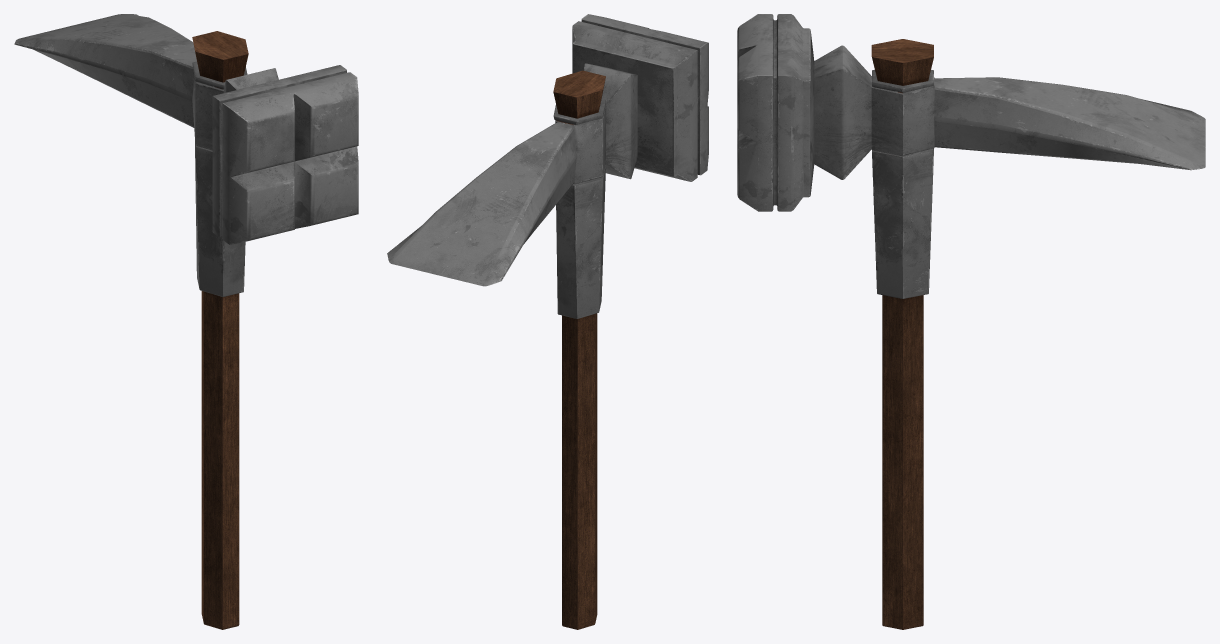
File: pickaxe.glb
3 views of the same model, side by side, from view 1: azimuth 30°, elevation 25°; view 2: azimuth 150°, elevation 25°; view 3: azimuth 270°, elevation 25° (orthographic). The views are drawn at different scales.
Parts seen in each view (by area): view 1: Cylinder.003; view 2: Cylinder.003; view 3: Cylinder.003.
Part boxes in pixels (x1,y1,x2,y2): Cylinder.003: [14, 14, 358, 629]; Cylinder.003: [387, 14, 708, 629]; Cylinder.003: [737, 14, 1205, 629].
Size of the model in its own units: 0.2325 by 1.01 by 0.7444.
1 material, 1 textured.
